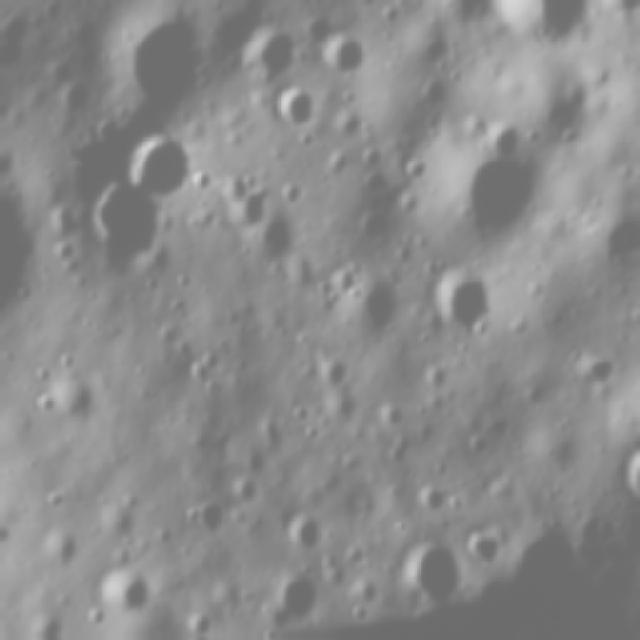crater: (434, 122, 558, 250), (96, 2, 216, 118), (71, 185, 169, 281), (388, 537, 474, 621), (425, 268, 497, 358), (116, 134, 198, 206), (233, 21, 301, 94), (260, 569, 332, 633), (244, 205, 302, 284), (212, 172, 272, 245), (33, 378, 104, 438), (346, 276, 405, 341), (269, 82, 326, 142), (99, 566, 159, 620), (35, 532, 82, 583), (278, 512, 329, 558), (186, 498, 228, 553), (324, 38, 368, 88), (311, 349, 352, 397), (296, 15, 341, 57), (402, 483, 448, 523), (182, 351, 226, 392), (577, 351, 621, 391), (222, 474, 263, 512), (371, 409, 407, 440), (418, 366, 450, 400), (461, 436, 488, 464), (286, 403, 311, 431), (301, 423, 319, 448)
